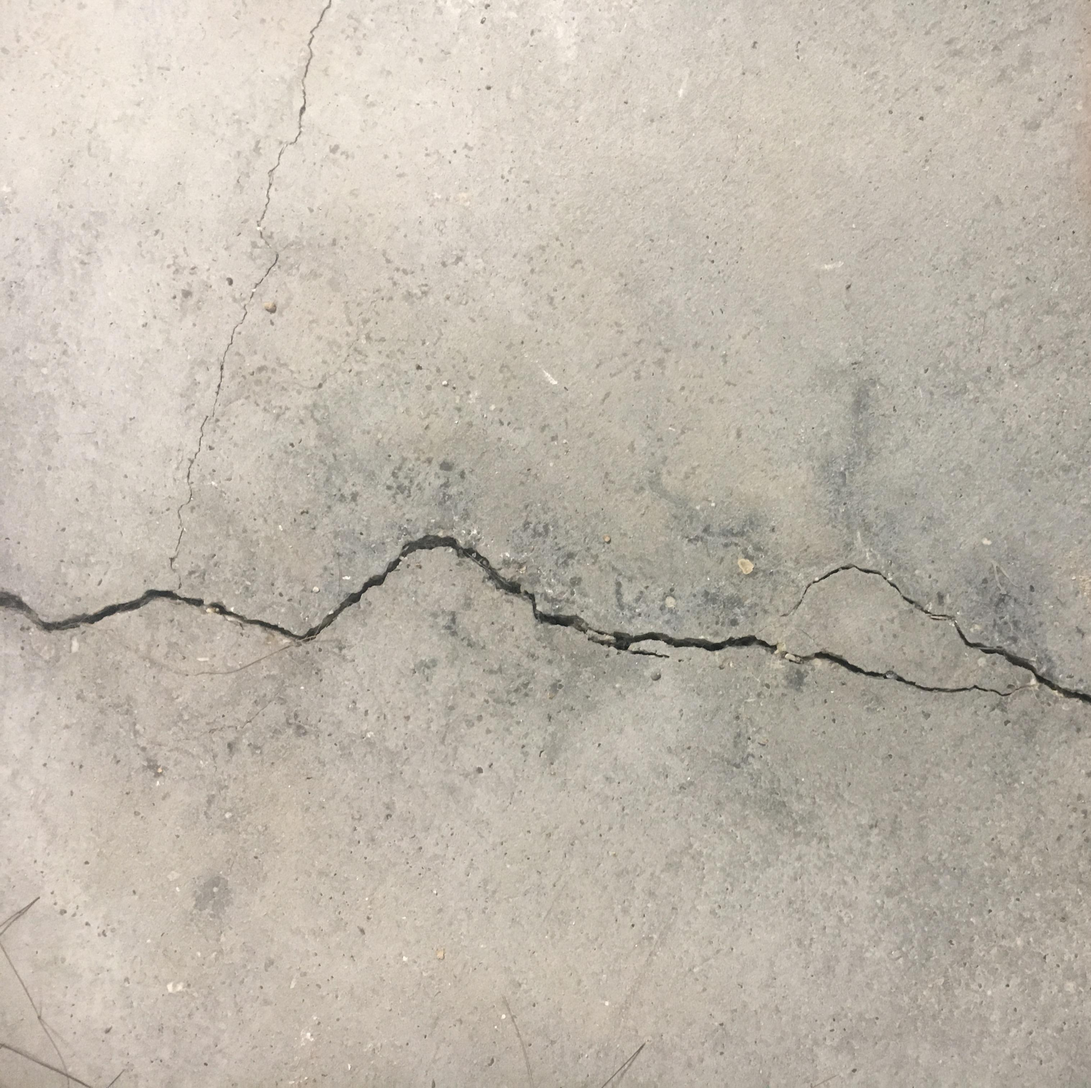Hairline-Crack: (169, 0, 336, 569)
Horizontal Settlement Crack: (3, 529, 1088, 708)
